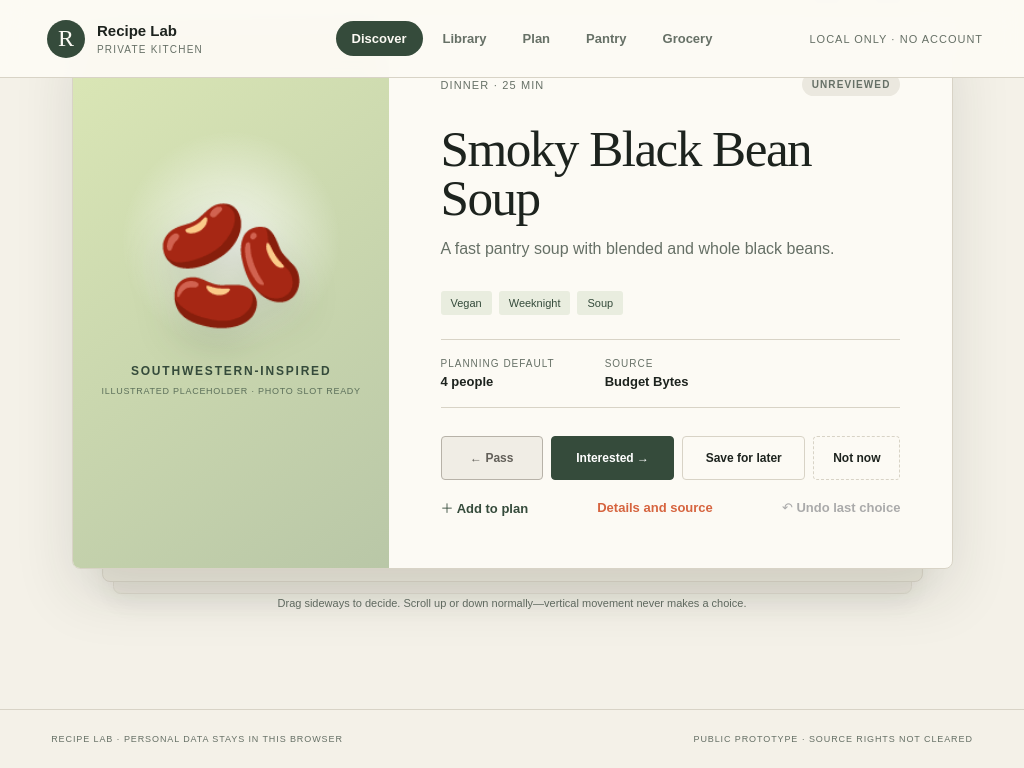
Test: Recipe Lab personal planning experience › traps keyboard focus in recipe details, closes with Escape, and restores the opener
(page scrolled)
Click the button "Details and source" at coordinates (655, 507), box [597, 500, 712, 515]
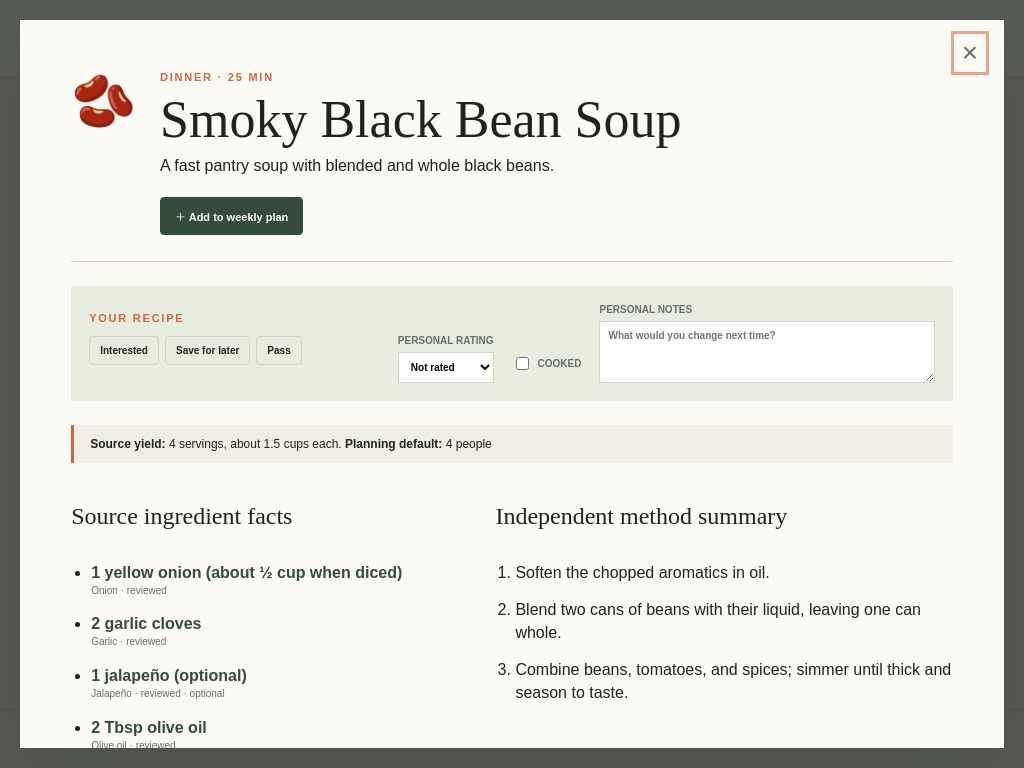
Press Shift+Tab
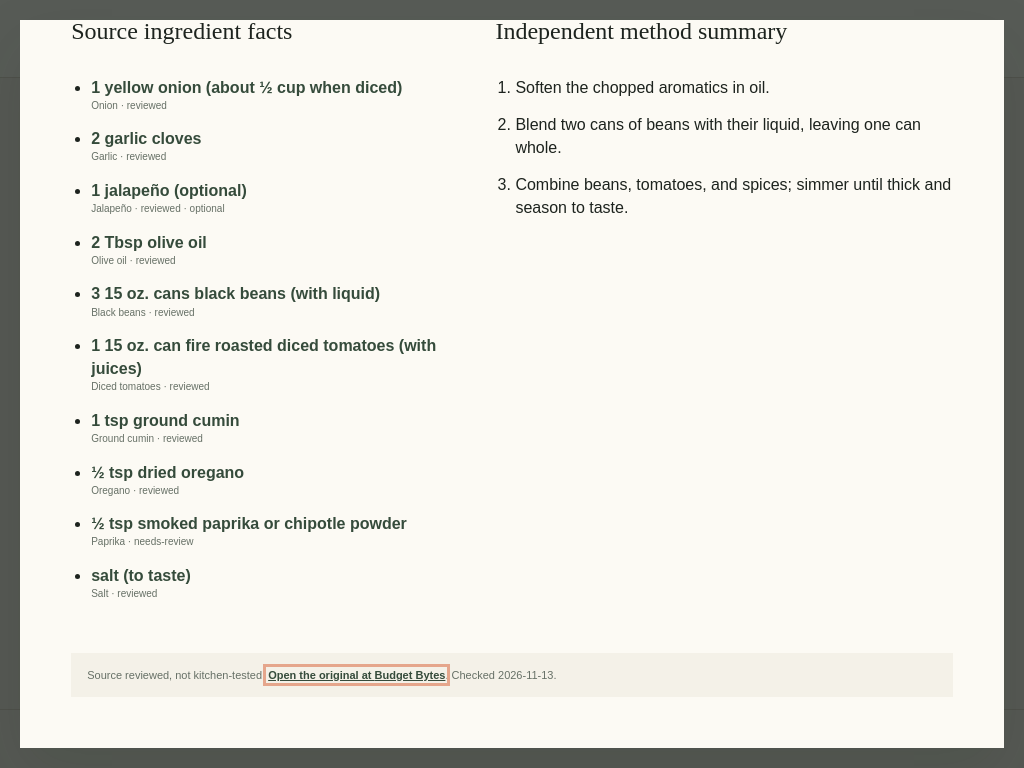
Press Tab
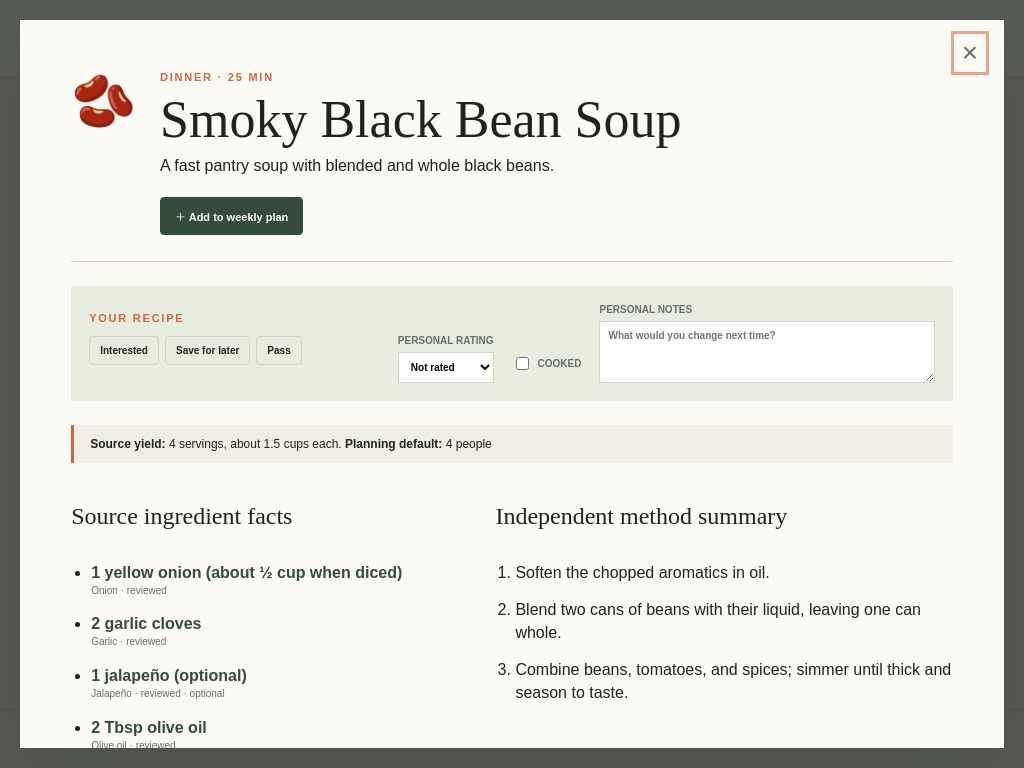
Press Escape
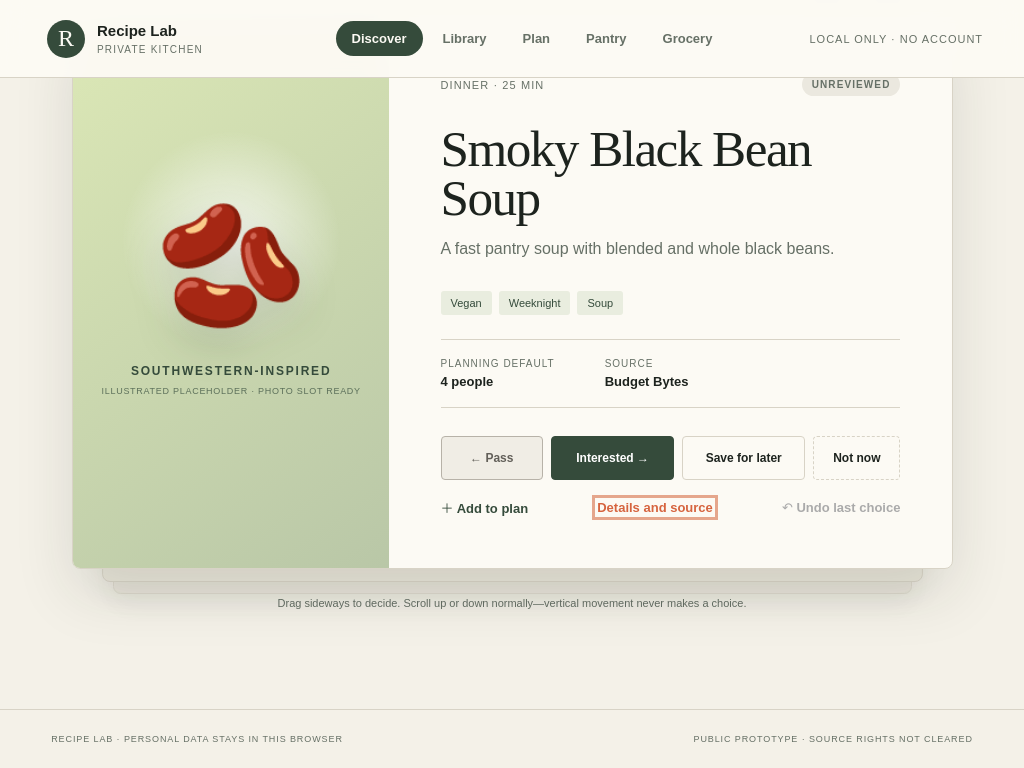
Result: the dialog is gone
